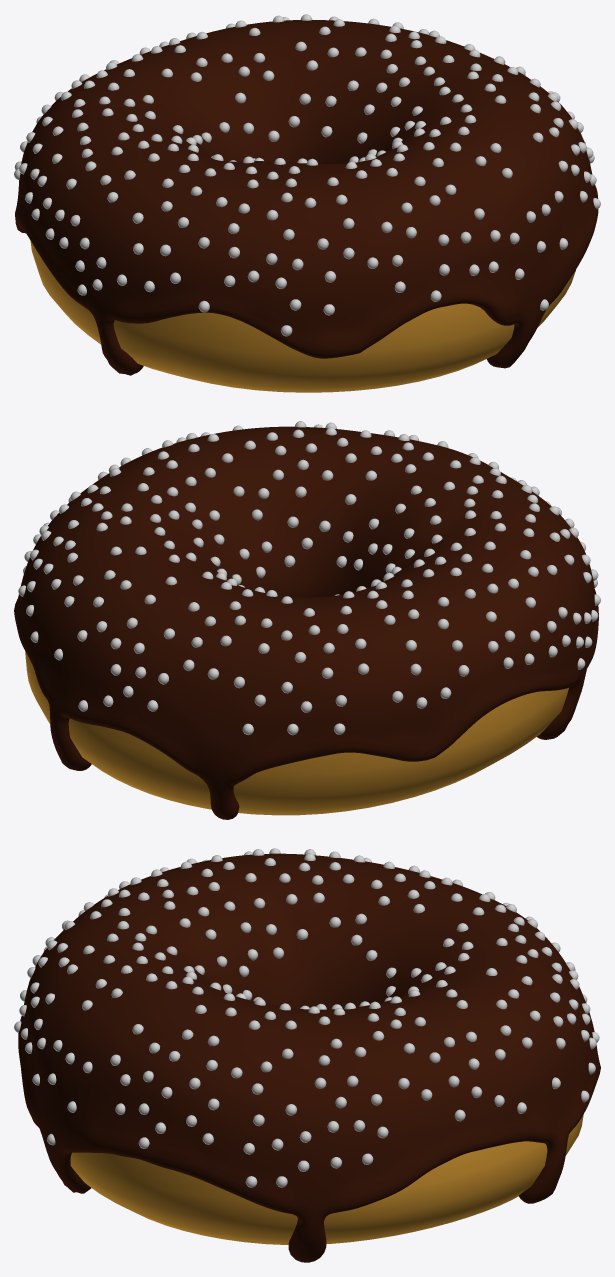
File: donut-tight-nofloor-colordough.obj
3 renders of one model, top to bottom at view 1: azimuth 30°, elevation 25°; view 2: azimuth 150°, elevation 25°; view 3: azimuth 270°, elevation 25°, orthographic.
Visible parts, largest first — view 1: Icing.main, Donut.main; view 2: Icing.main, Donut.main; view 3: Icing.main, Donut.main.
Part boxes in pixels (box(x1,y1,x2,y2)): Icing.main: box(14, 14, 600, 375); Donut.main: box(30, 241, 575, 392); Icing.main: box(14, 421, 600, 819); Donut.main: box(25, 651, 568, 815); Icing.main: box(14, 848, 600, 1262); Donut.main: box(70, 1115, 583, 1244).
Bounding box in the file's own units: 0.1216 × 0.0511 × 0.1185.
